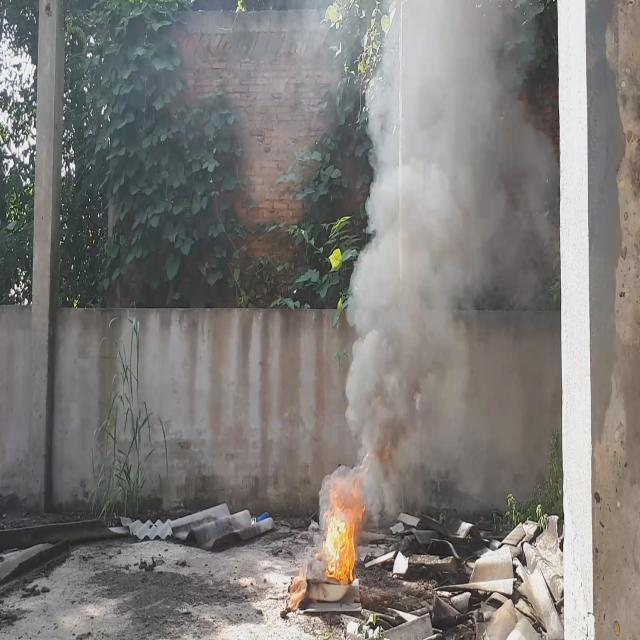Fire: (324, 471, 367, 580)
Smoke: (346, 0, 557, 505)
